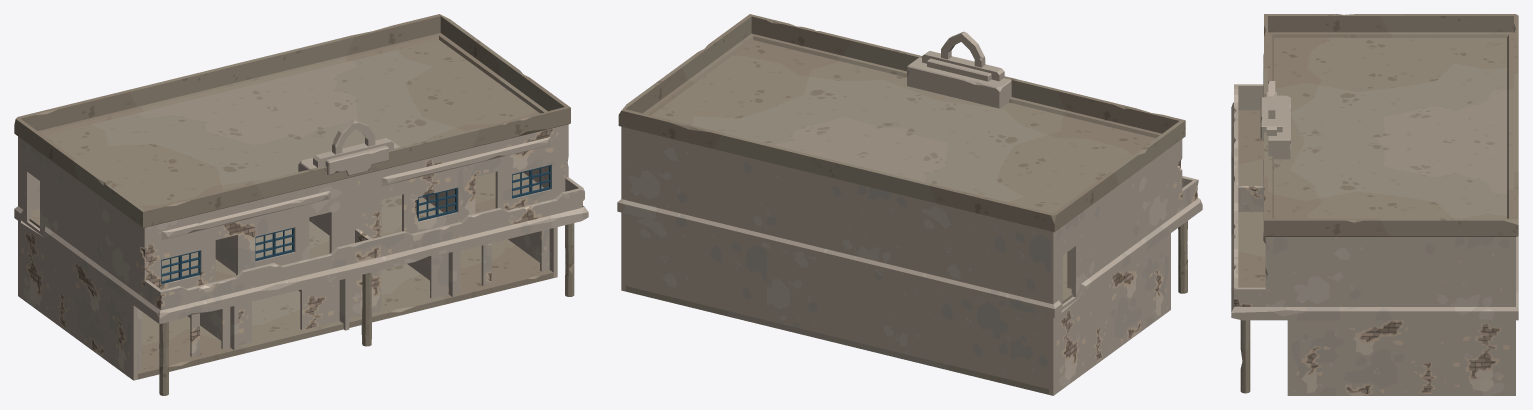
Rendered from SM_Bld_Shop_08.fbx.
3 views of the same model, side by side, from view 1: azimuth 30°, elevation 25°; view 2: azimuth 150°, elevation 25°; view 3: azimuth 270°, elevation 25° (orthographic). The views are drawn at different scales.
Visible parts, largest first — view 1: SM_Bld_Shop_08; view 2: SM_Bld_Shop_08; view 3: SM_Bld_Shop_08.
Boxes of the visible parts, x1,y1,x2,y2 form: SM_Bld_Shop_08: [14, 14, 588, 395]; SM_Bld_Shop_08: [617, 14, 1202, 395]; SM_Bld_Shop_08: [1231, 14, 1518, 395].
Bounding box in the file's own units: 2147 × 1026 × 1258.
